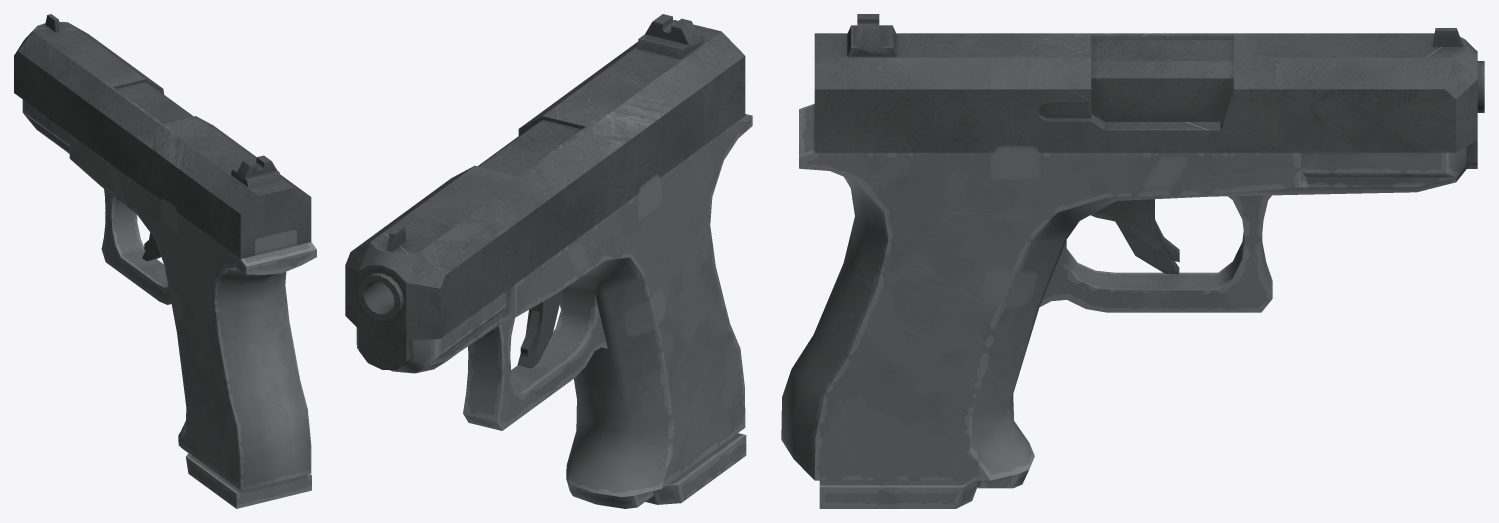
Rendered from IG_Gun_GLick.fbx.
3 renders of one model, left to right at view 1: azimuth 30°, elevation 25°; view 2: azimuth 150°, elevation 25°; view 3: azimuth 270°, elevation 25°, orthographic. The views are drawn at different scales.
Visible parts, largest first — view 1: Pfb_WPM_Glock_02; view 2: Pfb_WPM_Glock_02; view 3: Pfb_WPM_Glock_02.
Boxes of the visible parts, x1,y1,x2,y2 form: Pfb_WPM_Glock_02: (14, 14, 316, 508); Pfb_WPM_Glock_02: (345, 14, 752, 508); Pfb_WPM_Glock_02: (781, 14, 1484, 508).
Size of the model in its own units: 0.0722 by 0.2983 by 0.4119.
1 material, 1 textured.
